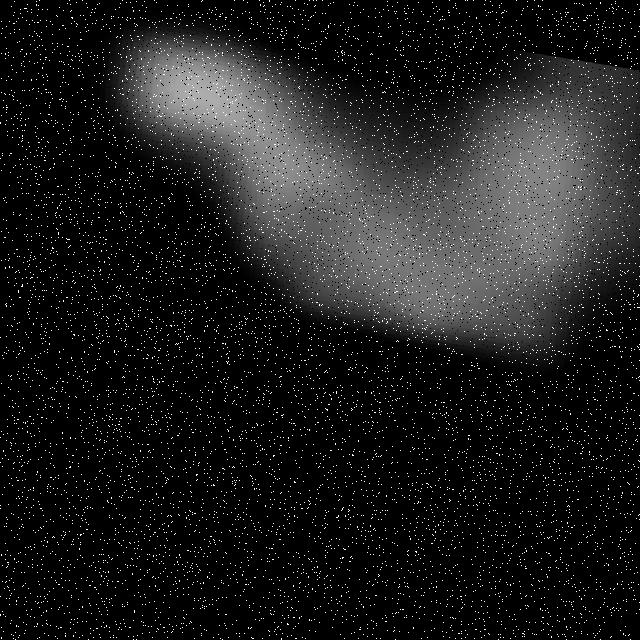person: (53, 3, 640, 393)
